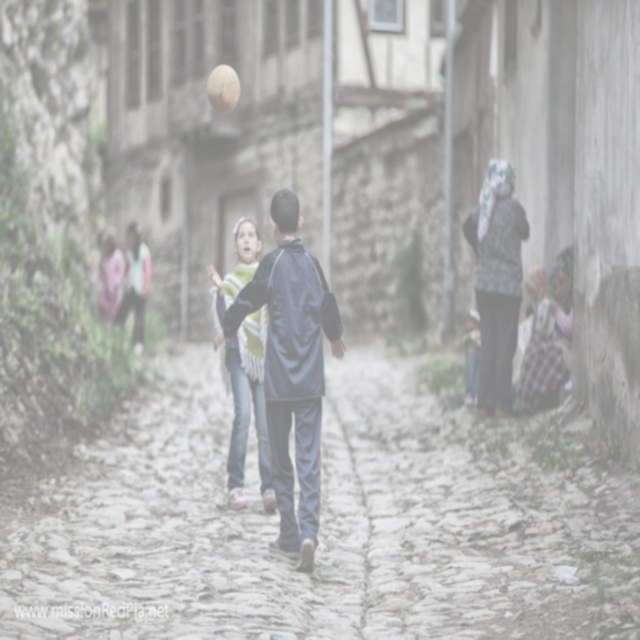pessoa: (212, 182, 349, 578), (207, 212, 286, 520), (461, 153, 534, 430), (514, 244, 574, 416), (385, 201, 435, 361), (111, 217, 152, 360), (90, 222, 128, 335), (546, 262, 574, 342), (461, 306, 482, 408), (523, 267, 549, 317), (522, 296, 537, 322)
